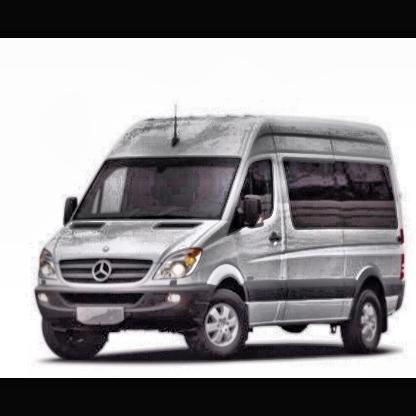Mercedes-Benz Sprinter Van 2012: (35, 104, 408, 364)
